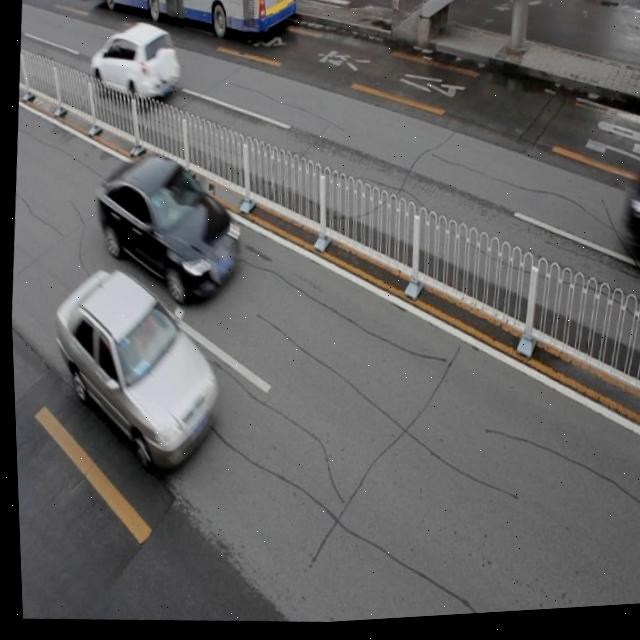car: (43, 263, 221, 472), (87, 146, 246, 306), (85, 17, 181, 110), (614, 177, 640, 285)
van: (86, 0, 300, 56)
